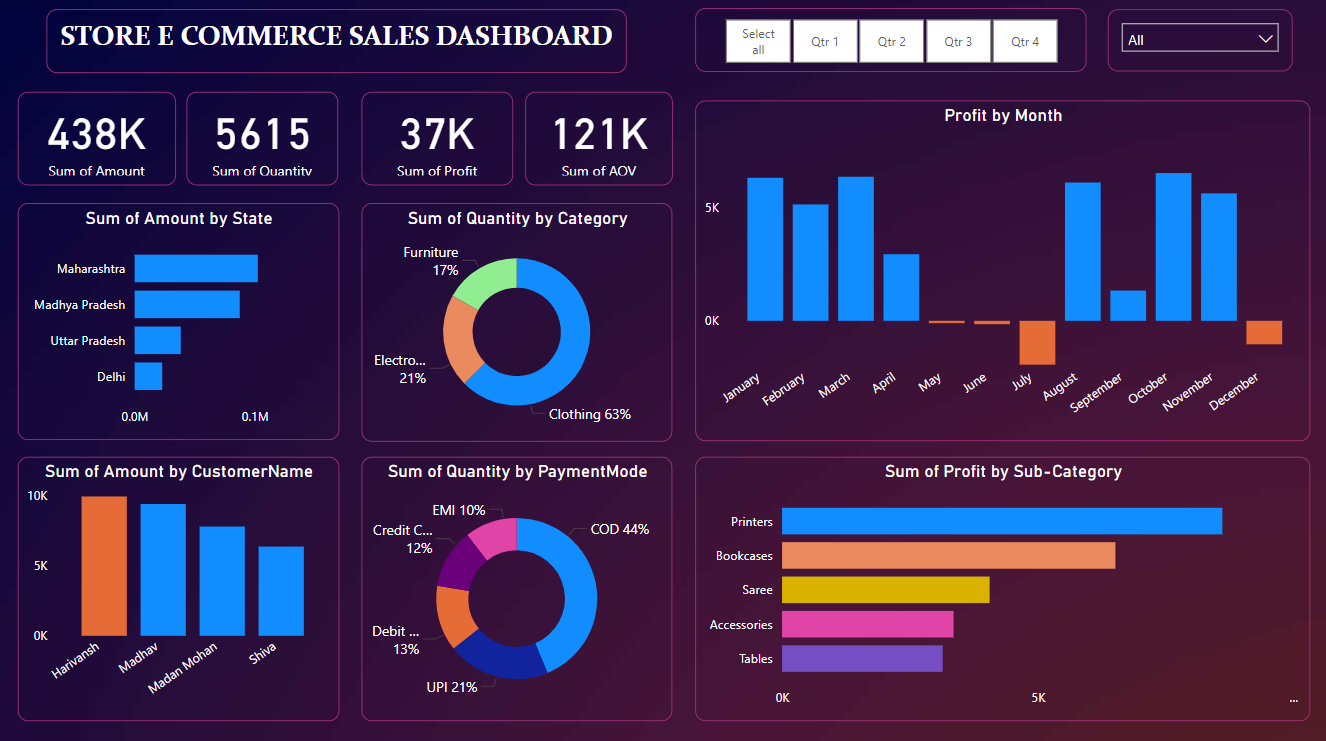

This screenshot's page, from the dashboard's own definition file:
{"tool":"powerbi","page":{"name":"Page 1","canvas":[1280,720],"ordinal":0},"visuals":[{"type":"columnChart","title":"Profit by Month","fields":{"Y":["Details.Profit"],"Category":["Orders.Order Date.Variation.Date Hierarchy.Month"]},"box":[672.5,98.8,593.8,328.8],"z":0},{"type":"barChart","fields":{"Category":["Details.Sub-Category"],"Y":["Details.Profit"]},"box":[672.5,442.5,593.8,255],"z":1000},{"type":"donutChart","fields":{"Category":["Details.Category"],"Y":["Details.Quantity"]},"box":[350,197.5,300,230],"z":2000},{"type":"donutChart","fields":{"Y":["Details.Quantity"],"Category":["Details.PaymentMode"]},"box":[350,442.5,300,255],"z":3000},{"type":"card","fields":{"Values":["Details.Amount"]},"box":[17.5,90,152.5,90],"z":4000},{"type":"card","fields":{"Values":["Details.Profit"]},"box":[350,90,146.2,90],"z":5000},{"type":"card","fields":{"Values":["Details.Quantity"]},"box":[181.2,90,146.2,90],"z":6000},{"type":"card","fields":{"Values":["Details.AOV"]},"box":[507.5,90,142.5,90],"z":7000},{"type":"barChart","fields":{"Category":["Orders.State"],"Y":["Details.Amount"]},"box":[17.5,197.5,310,228.8],"z":8000},{"type":"columnChart","fields":{"Y":["Details.Amount"],"Category":["Orders.CustomerName"]},"box":[17.5,442.5,310,255],"z":9000},{"type":"slicer","fields":{"Values":["Orders.Order Date.Variation.Date Hierarchy.Quarter"]},"box":[672.5,10,377.5,61.2],"z":10000},{"type":"slicer","fields":{"Values":["Orders.State"]},"box":[1070,11.2,178.8,60],"z":11000},{"type":"textbox","box":[46.2,11.2,560,61.2],"z":12000}]}

Visuals, with their boxes in screenshot pixels (x1, y1, x2, y2), scaled from the page's 1280x720 canvas onto the 1326x741 screenshot:
"Profit by Month" columnChart: <box>697,102,1312,440</box>
barChart - Details.Sub-Category x Details.Profit: <box>697,455,1312,718</box>
donutChart - Details.Category x Details.Quantity: <box>363,203,673,440</box>
donutChart - Details.Quantity x Details.PaymentMode: <box>363,455,673,718</box>
card - Details.Amount: <box>18,93,176,185</box>
card - Details.Profit: <box>363,93,514,185</box>
card - Details.Quantity: <box>188,93,339,185</box>
card - Details.AOV: <box>526,93,673,185</box>
barChart - Orders.State x Details.Amount: <box>18,203,339,439</box>
columnChart - Details.Amount x Orders.CustomerName: <box>18,455,339,718</box>
slicer - Orders.Order Date.Variation.Date Hierarchy.Quarter: <box>697,10,1088,73</box>
slicer - Orders.State: <box>1108,12,1294,73</box>
textbox: <box>48,12,628,75</box>
